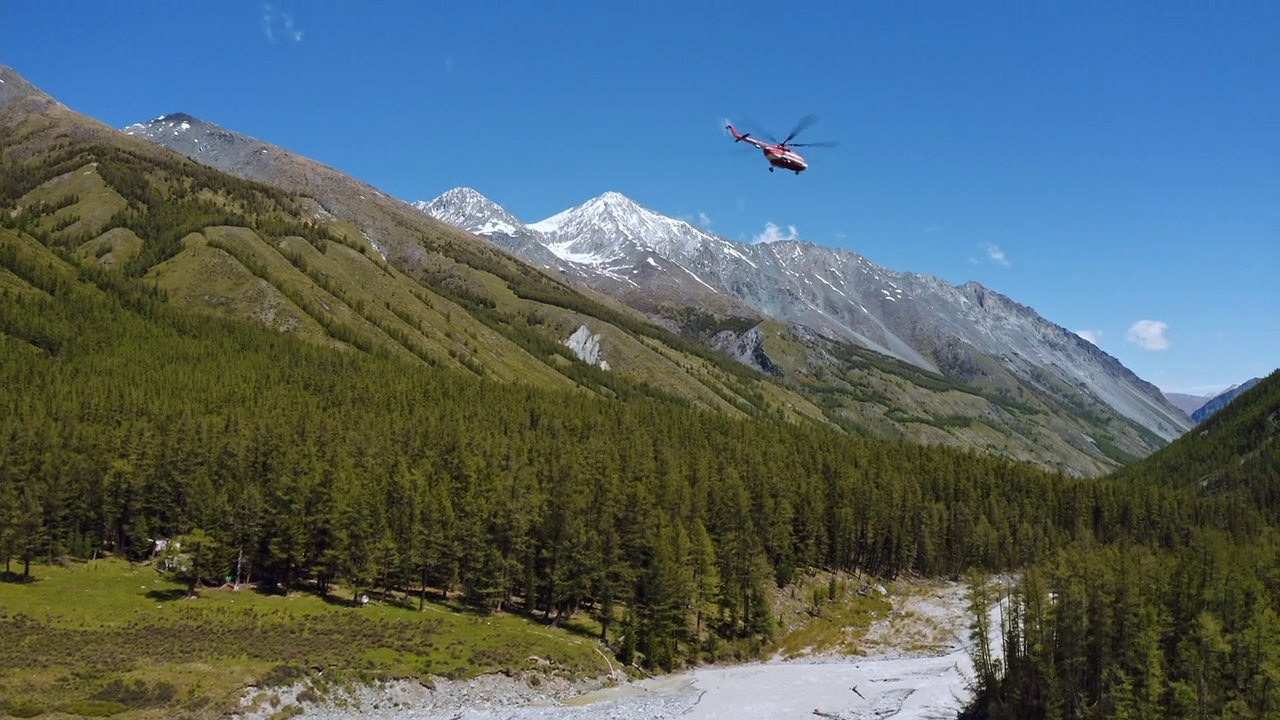heli: (719, 114, 838, 176)
